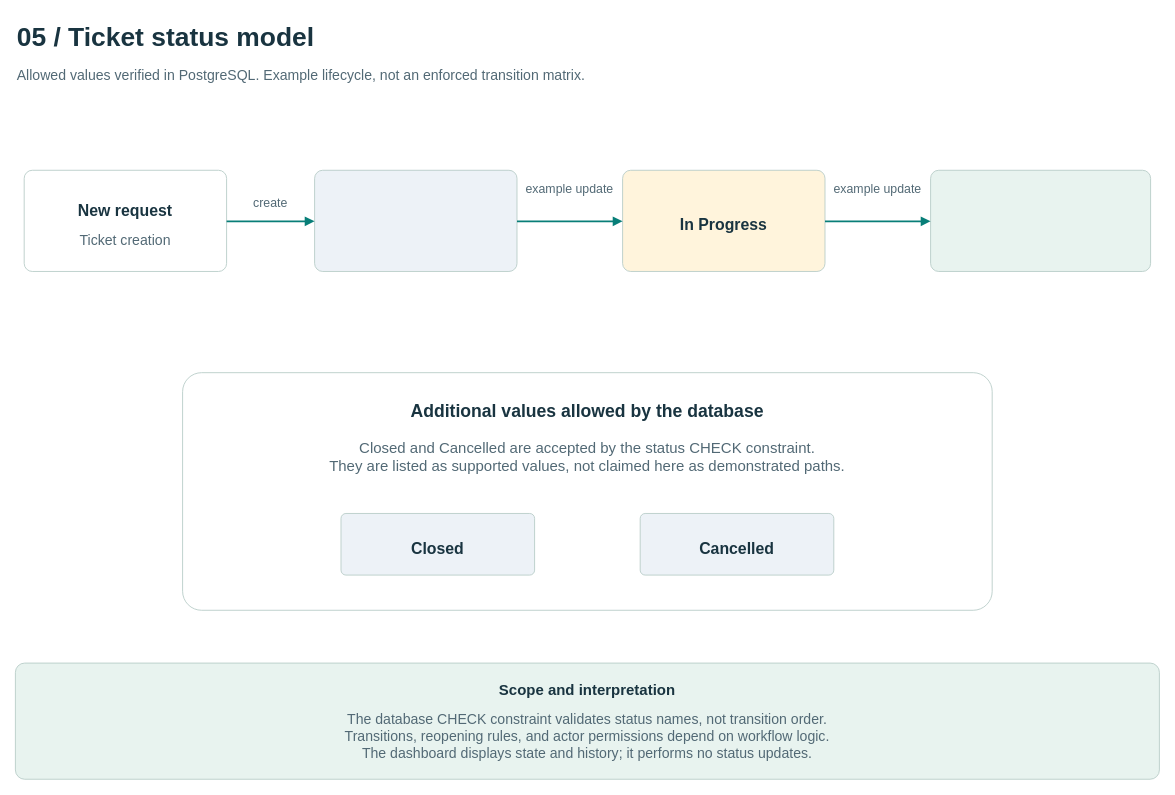
The diagram is 1175 pixels wide and 795 high, and some of its shapes have lost their labels. Each missing label, with the centre of its shape:
Open: [415,220]
Resolved: [1040,220]
